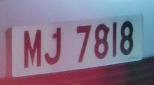1: (109, 18, 120, 63)
7: (72, 20, 95, 68)
8: (93, 19, 112, 64), (118, 17, 135, 61)
J: (45, 24, 67, 70)
M: (20, 23, 43, 76)
